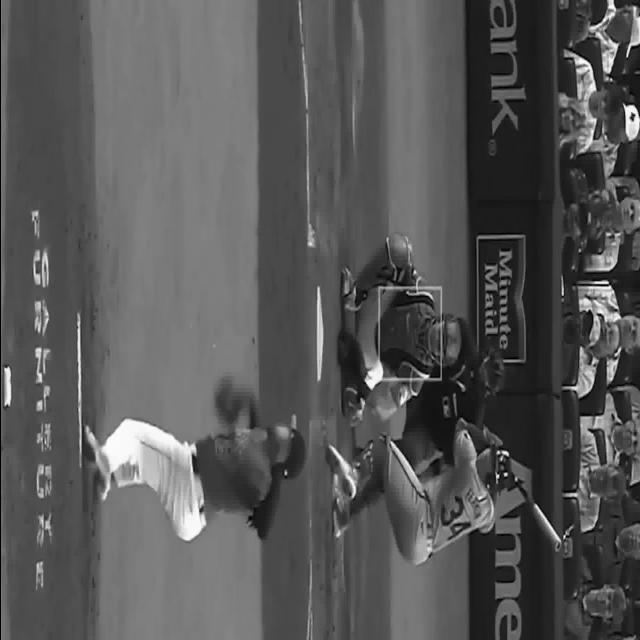baseball_glove: (212, 384, 238, 428)
bat: (506, 482, 566, 556)
shoe: (82, 423, 111, 499), (326, 443, 358, 499), (336, 330, 356, 366), (332, 496, 349, 538), (340, 266, 356, 296)
